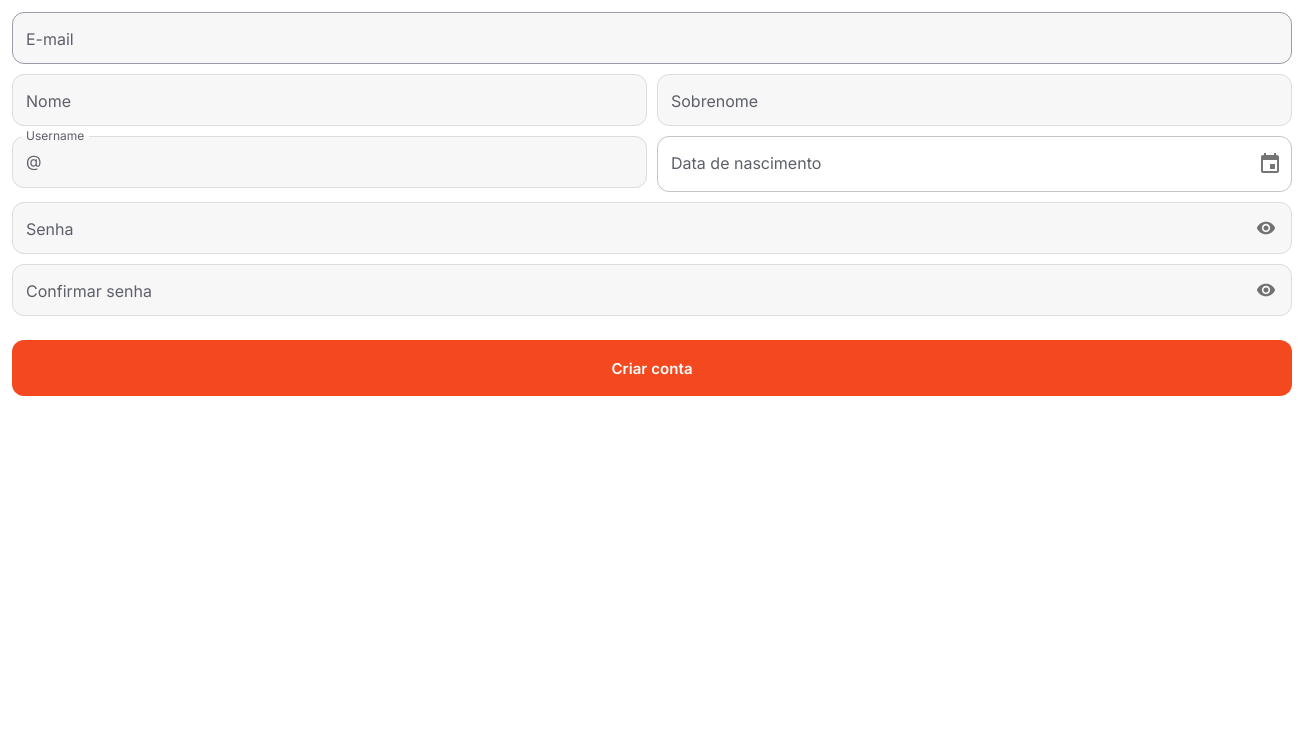
Test: CreateAccountForm › requires every field — submitting empty shows an error for each one
Step 1. Click the button "Criar conta" → (652, 368), box left=12, top=340, right=1292, bottom=396
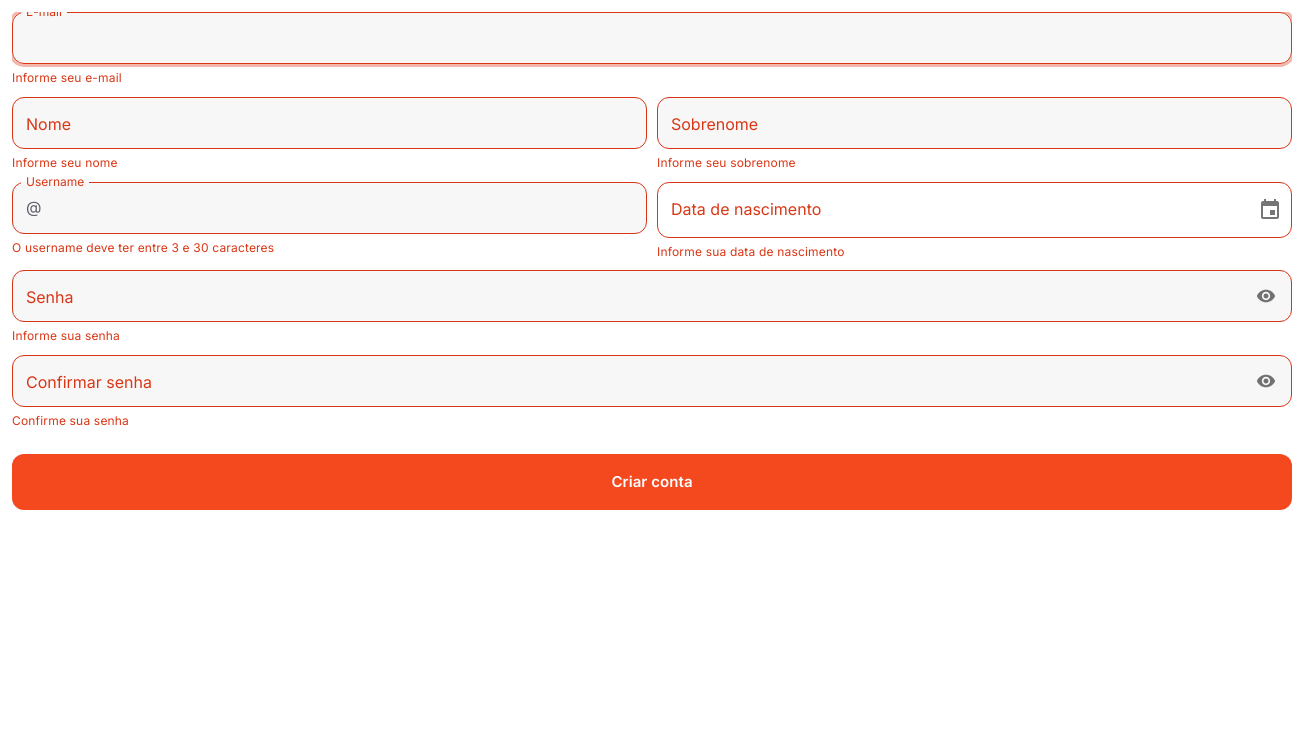
Expected: the text "Informe seu e-mail" is shown, left=12, top=70, right=122, bottom=85
Expected: the text "Informe seu nome" is shown, left=12, top=155, right=118, bottom=170
Expected: the text "Informe seu sobrenome" is shown, left=657, top=155, right=796, bottom=170
